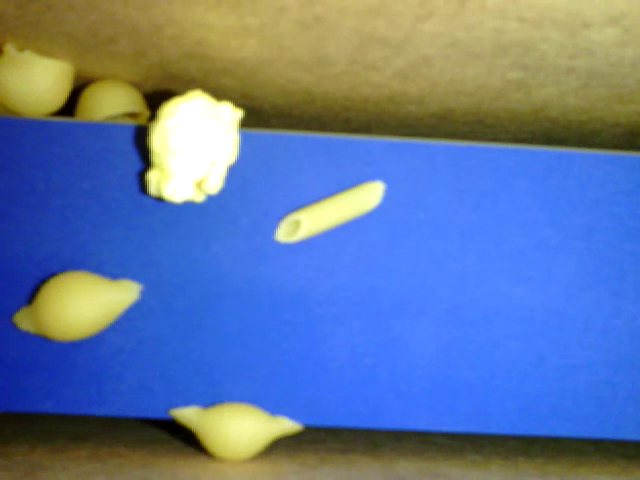penne: (274, 179, 387, 243)
shell: (12, 269, 143, 340), (170, 402, 304, 460), (1, 43, 75, 116), (73, 79, 149, 123)
